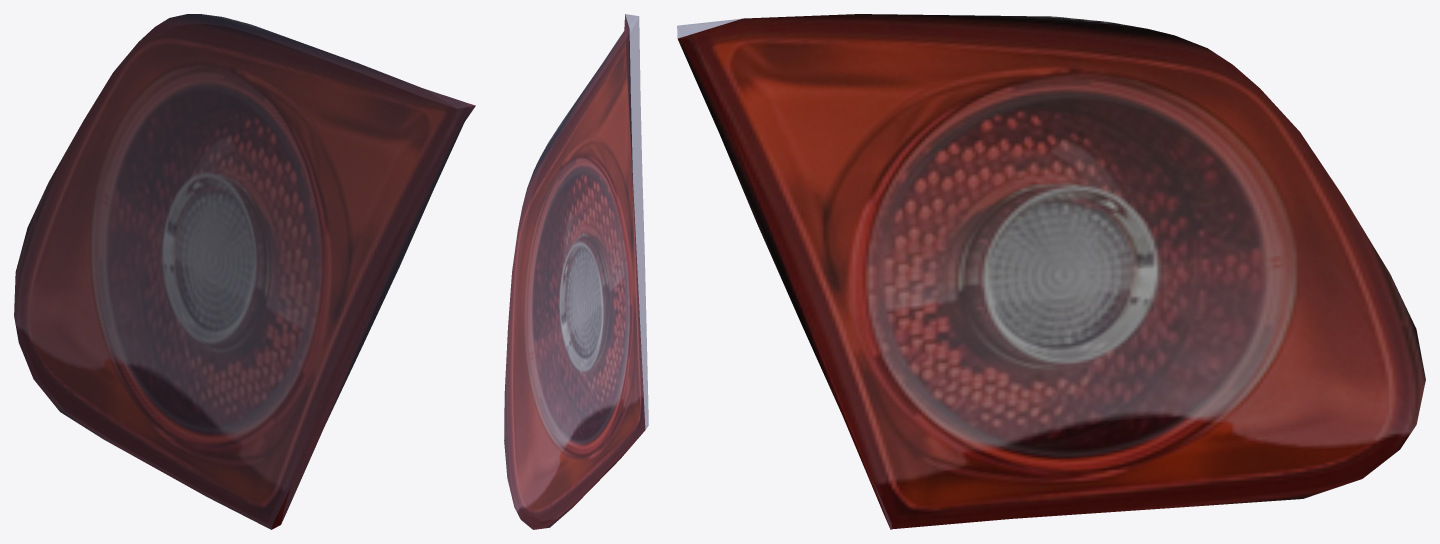
3 renders of one model, left to right at view 1: azimuth 30°, elevation 25°; view 2: azimuth 150°, elevation 25°; view 3: azimuth 270°, elevation 25°, orthographic. The views are drawn at different scales.
Parts seen in each view (by area): view 1: X6164_18_541D_R_X6164_18_541D_R_2_N, X6164_18_541D_R_1_DTaSI_X6164_18_541D_R; view 2: X6164_18_541D_R_1_DTaSI_X6164_18_541D_R, X6164_18_541D_R_X6164_18_541D_R_2_N; view 3: X6164_18_541D_R_X6164_18_541D_R_2_N.
Boxes of the visible parts, <box> form: X6164_18_541D_R_X6164_18_541D_R_2_N: <box>14,14,475,529</box>; X6164_18_541D_R_1_DTaSI_X6164_18_541D_R: <box>14,14,475,529</box>; X6164_18_541D_R_1_DTaSI_X6164_18_541D_R: <box>504,14,648,529</box>; X6164_18_541D_R_X6164_18_541D_R_2_N: <box>504,14,645,529</box>; X6164_18_541D_R_X6164_18_541D_R_2_N: <box>678,14,1425,529</box>.
Size of the model in its own units: 7.22 by 19.76 by 23.79.
